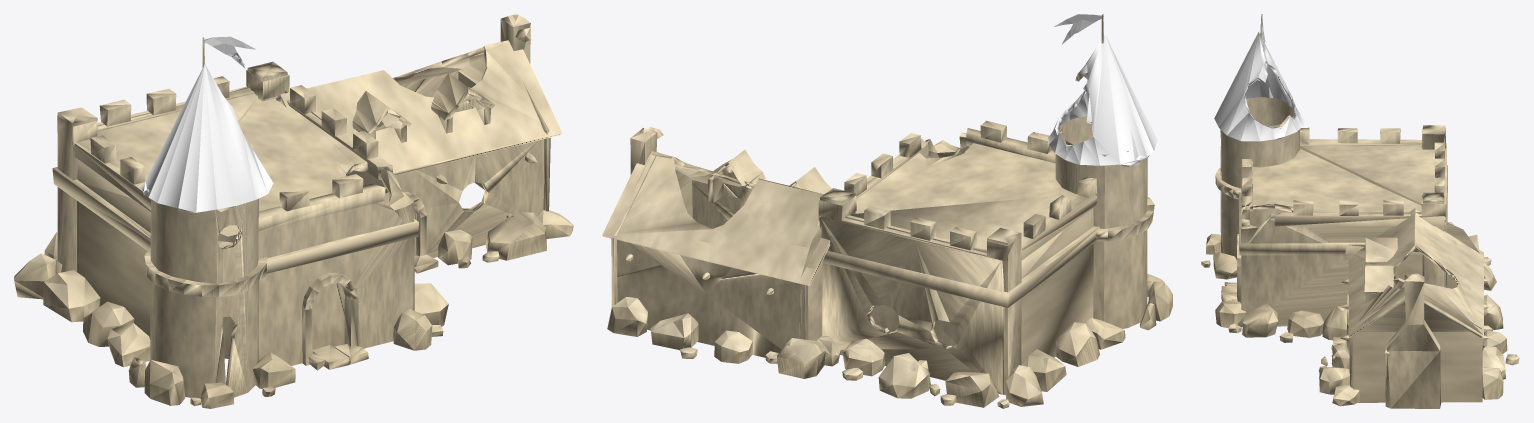
3 renders of one model, left to right at view 1: azimuth 30°, elevation 25°; view 2: azimuth 150°, elevation 25°; view 3: azimuth 270°, elevation 25°, orthographic. The views are drawn at different scales.
Visible parts, largest first — view 1: castle_d2.7; view 2: castle_d2.7; view 3: castle_d2.7.
Part boxes in pixels (<box>): castle_d2.7: <box>14,14,573,408</box>; castle_d2.7: <box>602,14,1172,408</box>; castle_d2.7: <box>1201,14,1519,408</box>.
Size of the model in its own units: 2.9 by 1.93 by 2.26.
Materials: 2 (1 with a texture image).
